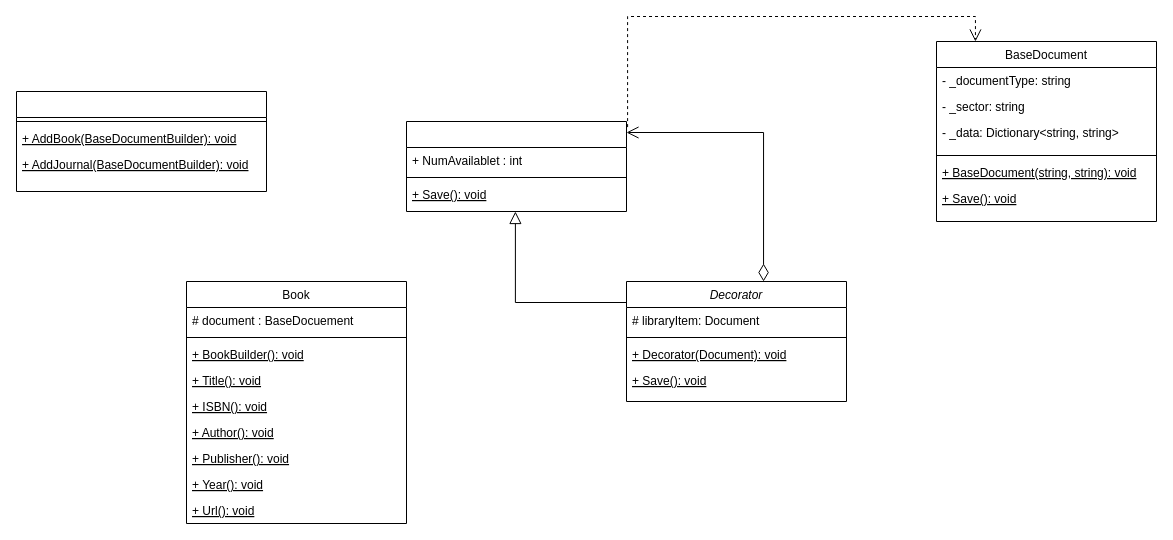
Some shapes in this 1173 by 540 pixel diagram are drawn without their labels. The box of each missing label's shape, as (x1, y1, x2, y2) in pixels:
Document: (406, 120, 626, 212)
Library: (16, 90, 266, 192)
